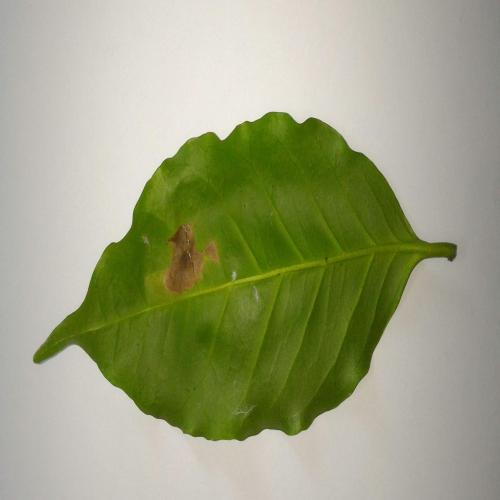leaf: (163, 223, 219, 294)
